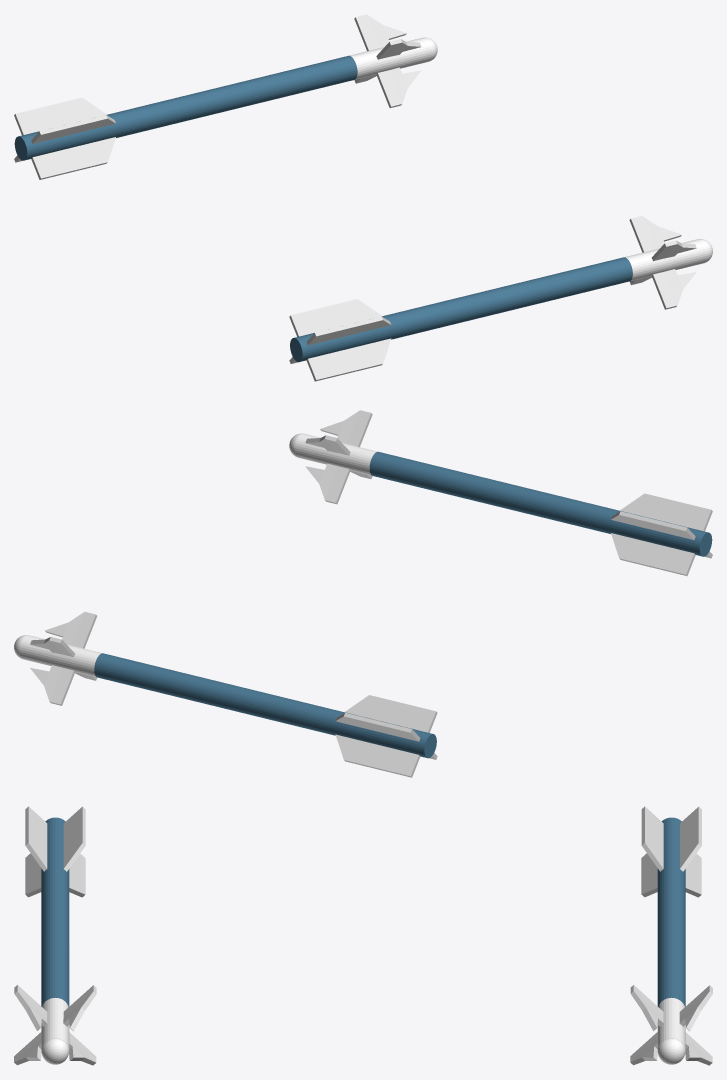
Rendered from aam3cf15j23.glb.
3 renders of one model, top to bottom at view 1: azimuth 30°, elevation 25°; view 2: azimuth 150°, elevation 25°; view 3: azimuth 270°, elevation 25°, orthographic. The views are drawn at different scales.
Visible parts, largest first — view 1: 球.004, 球.003; view 2: 球.003, 球.004; view 3: 球.004, 球.003.
Part boxes in pixels (x1,y1,x2,y2): 球.004: [14, 14, 437, 179]; 球.003: [289, 216, 712, 381]; 球.003: [289, 410, 712, 576]; 球.004: [14, 612, 437, 777]; 球.004: [630, 806, 712, 1065]; 球.003: [14, 806, 96, 1065].
Size of the model in its own units: 3.96 by 0.6096 by 5.16.
